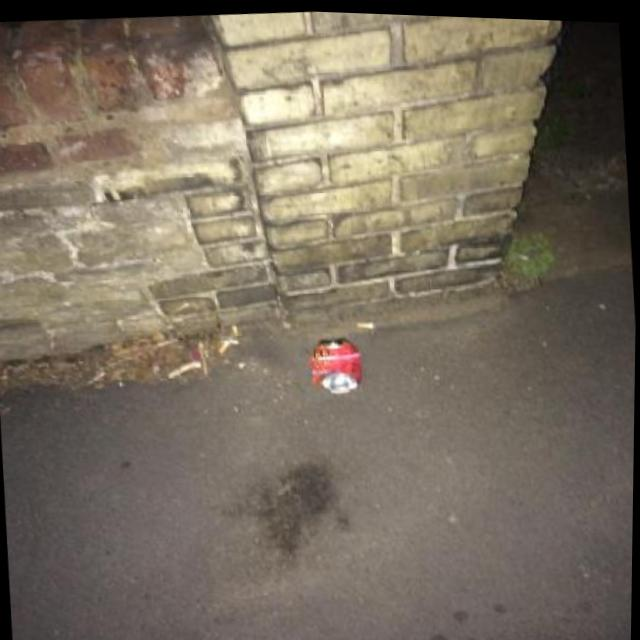metal: (308, 334, 365, 397)
